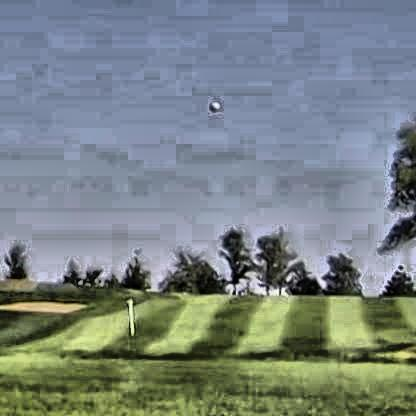golfball: (207, 98, 218, 109)
